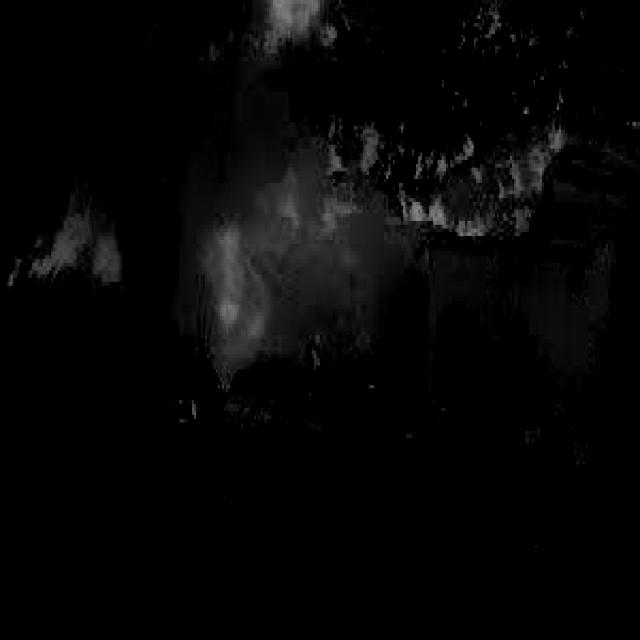fire: (328, 11, 582, 259), (181, 156, 320, 396), (2, 152, 149, 332)
